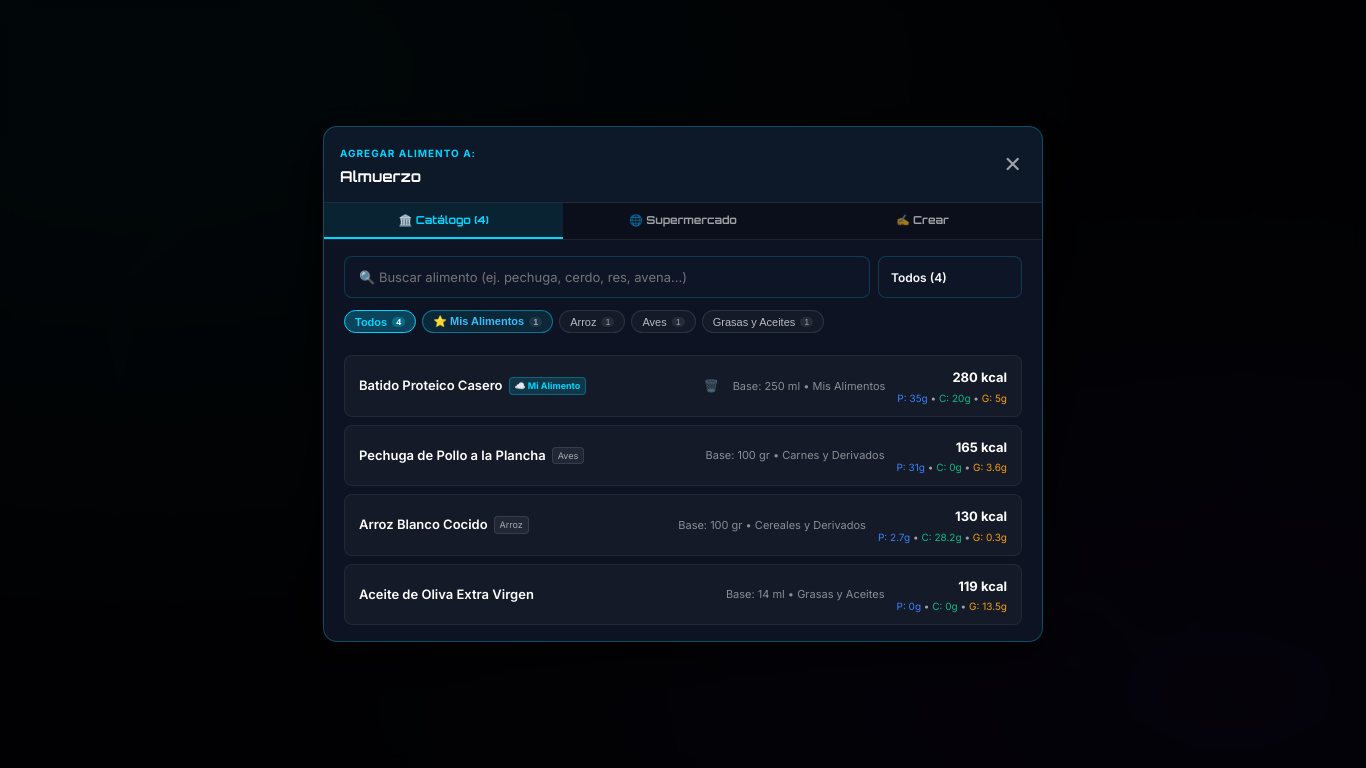
Test case: Nutrition Planner & Food Selector Mobile Responsiveness Test Suite › FoodSelectorModal Responsive Layout & Interactions › filters catalog items when selecting a specific category or "Mis Alimentos"
Expected: the text "Pechuga de Pollo a la Plancha" is shown, 359,446 -> 546,465
// Filter by "Mis Alimentos"
Select "⭐ Mis Alimentos (1)" in the dropdown titled "Filtrar por categoría o grupo de alimentos" at (950, 277), box 878,256 -> 1022,298
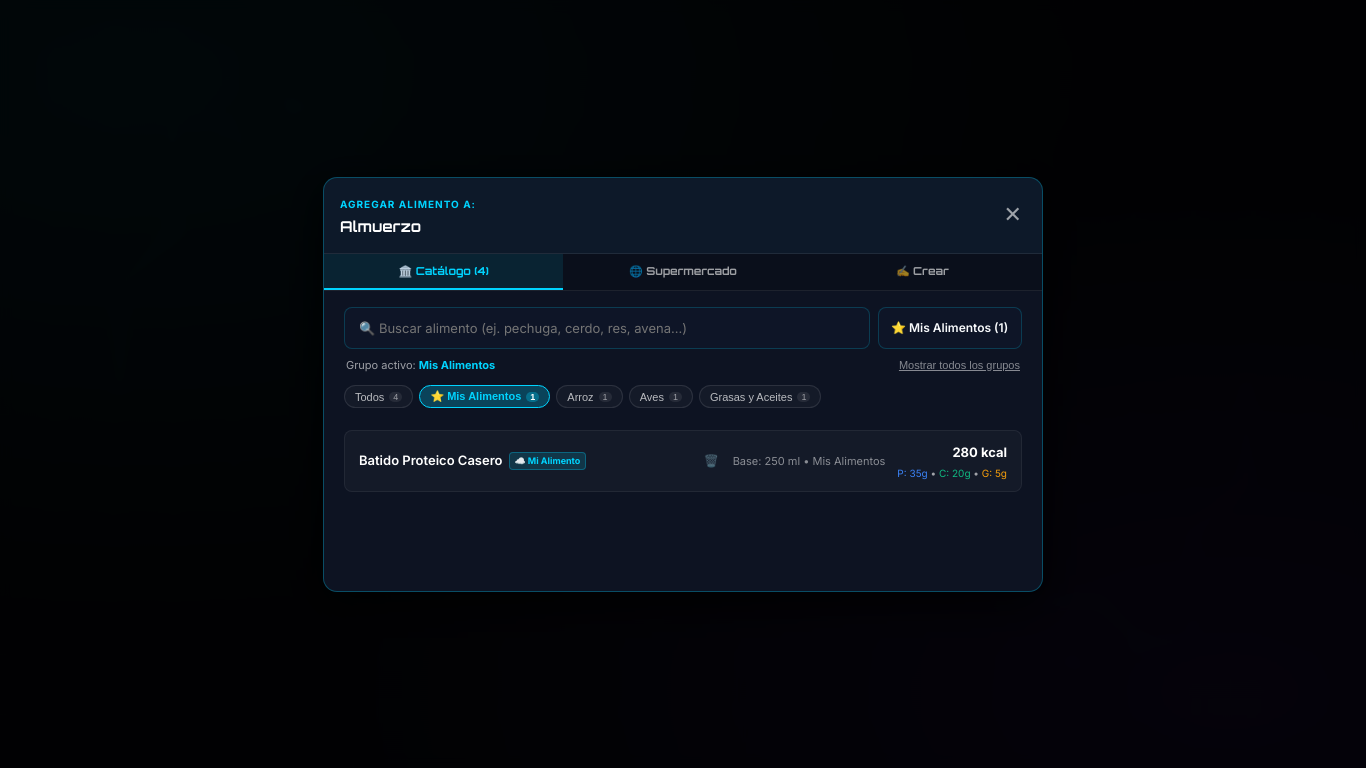
Expected: the text "Batido Proteico Casero" is shown, 359,451 -> 502,470
Expected: the button "Pechuga de Pollo a la Plancha" is gone
// Filter by "Aves"
Select "Aves (1)" in the dropdown titled "Filtrar por categoría o grupo de alimentos" at (950, 328), box 878,306 -> 1022,348
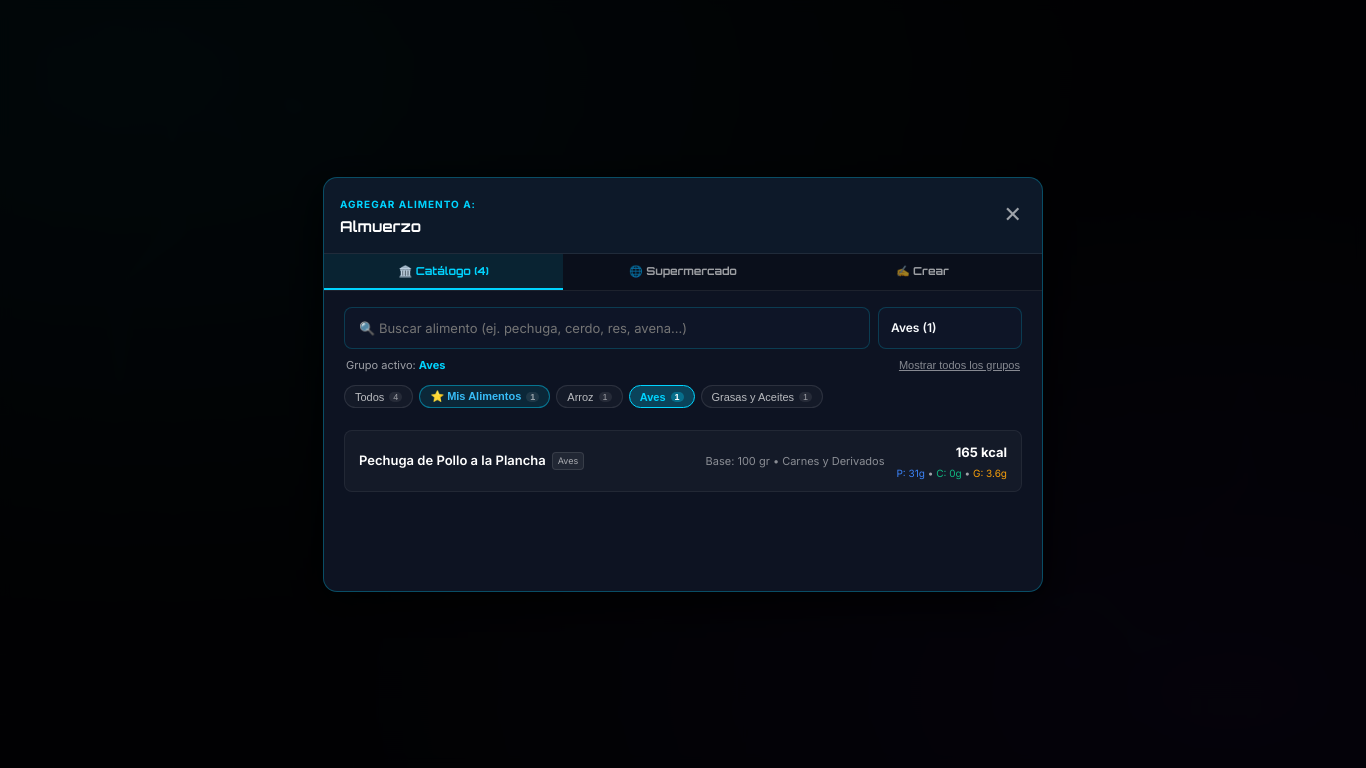
Expected: the button "Arroz Blanco Cocido" is not shown
Expected: the text "Pechuga de Pollo a la Plancha" is shown, 359,451 -> 546,470
